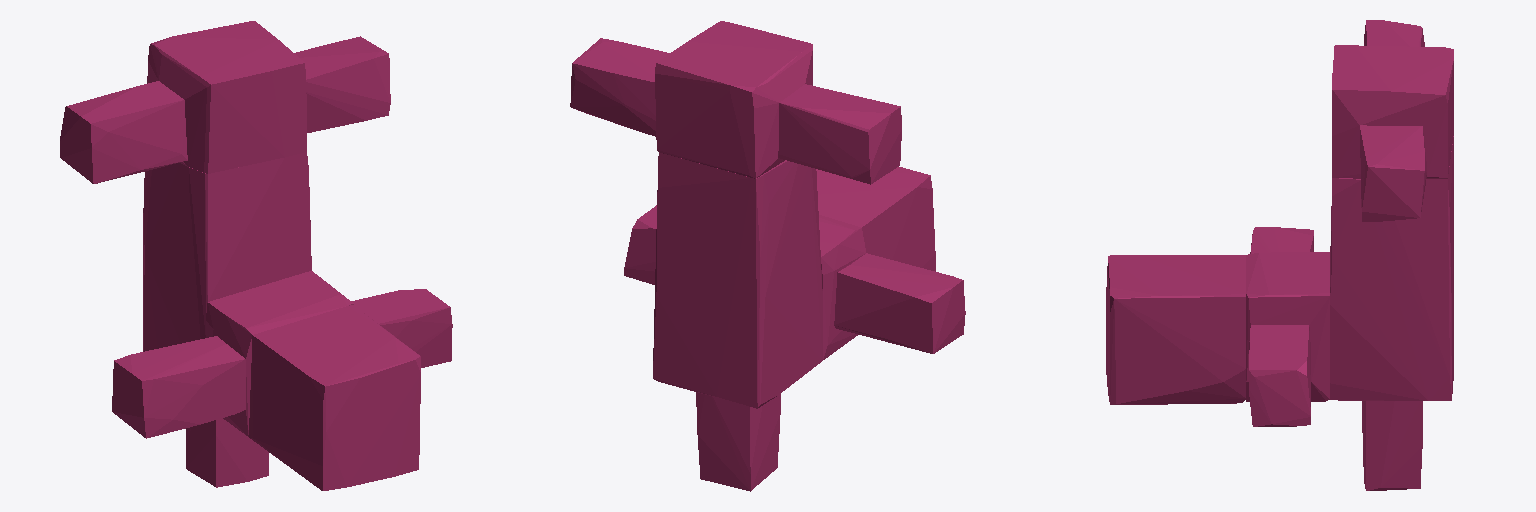
The robot description file, URDF, robot "blob421":
<robot name="blob421">
  <link name="random_obj_421">
    <contact>
      <lateral_friction value="1.0"/>
      <rolling_friction value="0.0"/>
      <inertia_scaling value="3.0"/>
      <contact_cfm value="0.0"/>
      <contact_erp value="1.0"/>
    </contact>
    <inertial>
      <origin rpy="0 0 0" xyz="0 0 0"/>
      <mass value="0.1"/>
      <inertia ixx="1" ixy="0" ixz="0" iyy="1" iyz="0" izz="0"/>
    </inertial>
    <visual>
      <origin rpy="0 0 0" xyz="0 0 0"/>
      <geometry>
        <mesh filename="421.obj" scale="0.015 0.015 0.015"/>
      </geometry>
      <material name="blockmat">
        <color rgba="0.69 0.25 0.46 1"/>
      </material>
    </visual>
    <collision>
      <origin rpy="0 0 0" xyz="0 0 0"/>
      <geometry>
        <mesh filename="421.obj" scale="0.015 0.015 0.015"/>
      </geometry>
    </collision>
  </link>
</robot>

--- Facts derived from the render (not from the file) ---
3 views of the same robot in one strip: view 1: azimuth 30°, elevation 25°; view 2: azimuth 150°, elevation 25°; view 3: azimuth 270°, elevation 25° (orthographic).
Robot: blob421 — 1 links, 0 joints (none); root link random_obj_421; default pose: all joints at 0.
Links seen in each view (by area): view 1: random_obj_421; view 2: random_obj_421; view 3: random_obj_421.
Boxes of the visible links, left/top/right/bottom form: random_obj_421: left=60, top=21, right=452, bottom=490; random_obj_421: left=570, top=21, right=965, bottom=491; random_obj_421: left=1106, top=20, right=1453, bottom=490.
Bounding box of the posed robot: 0.0933 × 0.0927 × 0.1206 m (x, y, z).
1 mesh visuals loaded from 1 distinct referenced files (1 OBJ).